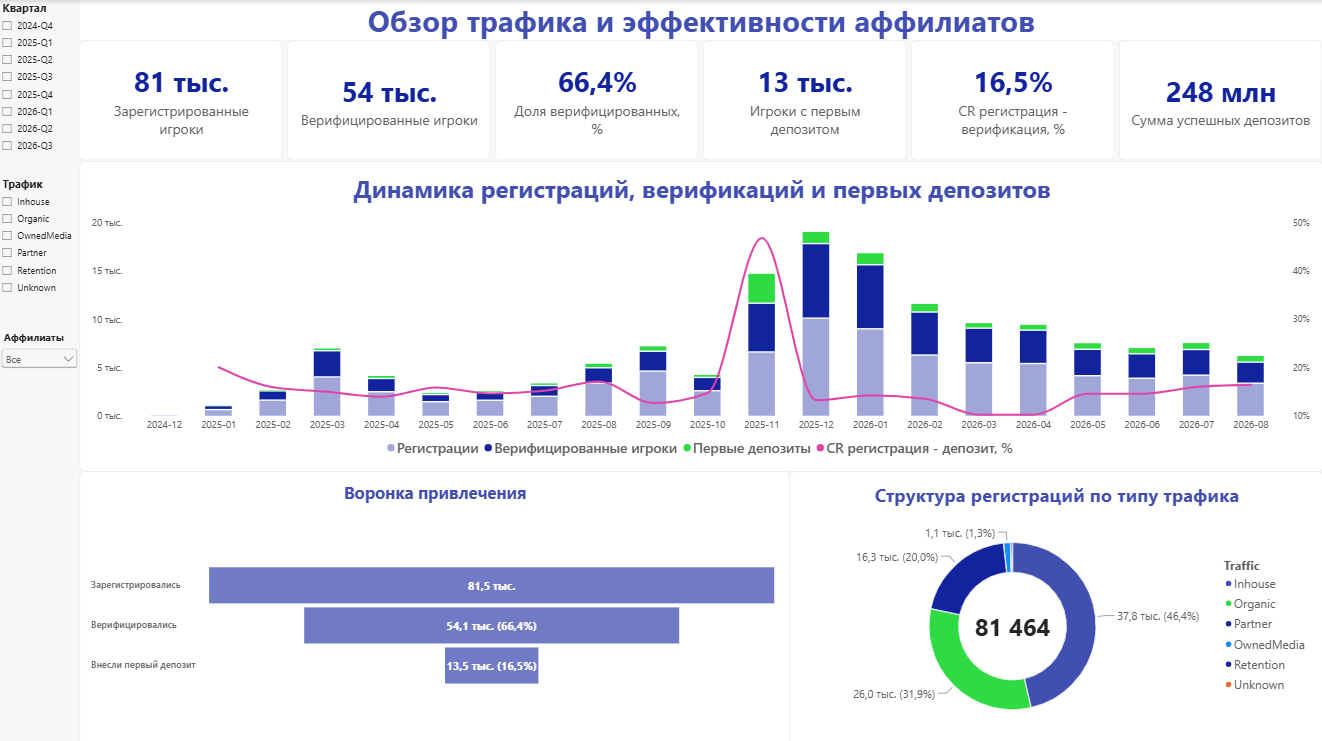

Layout of this report page (visuals, bound fields, positions):
{"tool":"powerbi","page":{"name":"Обзор","canvas":[1920,1080],"ordinal":0},"visuals":[{"type":"textbox","box":[119.4,0,1801,58.7],"z":0},{"type":"cardVisual","fields":{"Data":["_Measures.Cohort Registrations","_Measures.Cohort Verified","_Measures.Verified %","_Measures.Cohort FTD","_Measures.CR Reg to FTD %","_Measures.Successful Deposits Amount"]},"box":[119.4,58.7,1801,174],"z":1000},{"type":"lineStackedColumnComboChart","title":"Динамика регистраций, верификаций и первых депозитов","fields":{"Category":["Dim_Date.Month"],"Y":["_Measures.Registrations","_Measures.Verified Players","_Measures.First Deposits"],"Y2":["_Measures.CR Reg to FTD %"]},"box":[119.4,232.7,1801,449.2],"z":2000},{"type":"funnel","title":"Воронка привлечения","fields":{"Y":["_Measures.Cohort Registrations","_Measures.Cohort Verified","_Measures.Cohort FTD"]},"box":[119.4,682,1028,398.7],"z":3000},{"type":"donutChart","title":"Структура регистраций по типу трафика","fields":{"Category":["Dim_Affiliate.Traffic"],"Y":["_Measures.Cohort Registrations"]},"box":[1147.4,682,773,398.7],"z":4000},{"type":"slicer","fields":{"Values":["Dim_Date.YearQuarter"]},"box":[0,0,119.4,232.7],"z":5000},{"type":"slicer","fields":{"Values":["Dim_Affiliate.Traffic"]},"box":[0,255,119.4,180.1],"z":6000},{"type":"slicer","fields":{"Values":["Dim_Affiliate.AffiliateId"]},"box":[2,477.6,119.4,127.5],"z":7000}]}

Visuals, with their boxes on the page's 1920x1080 design canvas (x1, y1, x2, y2). These are canvas units, not pixel positions in the 1322x741 screenshot, which may show the page scaled, cropped or inside an application window:
textbox: box=[119, 0, 1920, 59]
cardVisual - _Measures.Cohort Registrations x _Measures.Cohort Verified: box=[119, 59, 1920, 233]
"Динамика регистраций, верификаций и первых депозитов" lineStackedColumnComboChart: box=[119, 233, 1920, 682]
"Воронка привлечения" funnel: box=[119, 682, 1147, 1081]
"Структура регистраций по типу трафика" donutChart: box=[1147, 682, 1920, 1081]
slicer - Dim_Date.YearQuarter: box=[0, 0, 119, 233]
slicer - Dim_Affiliate.Traffic: box=[0, 255, 119, 435]
slicer - Dim_Affiliate.AffiliateId: box=[2, 478, 121, 605]
